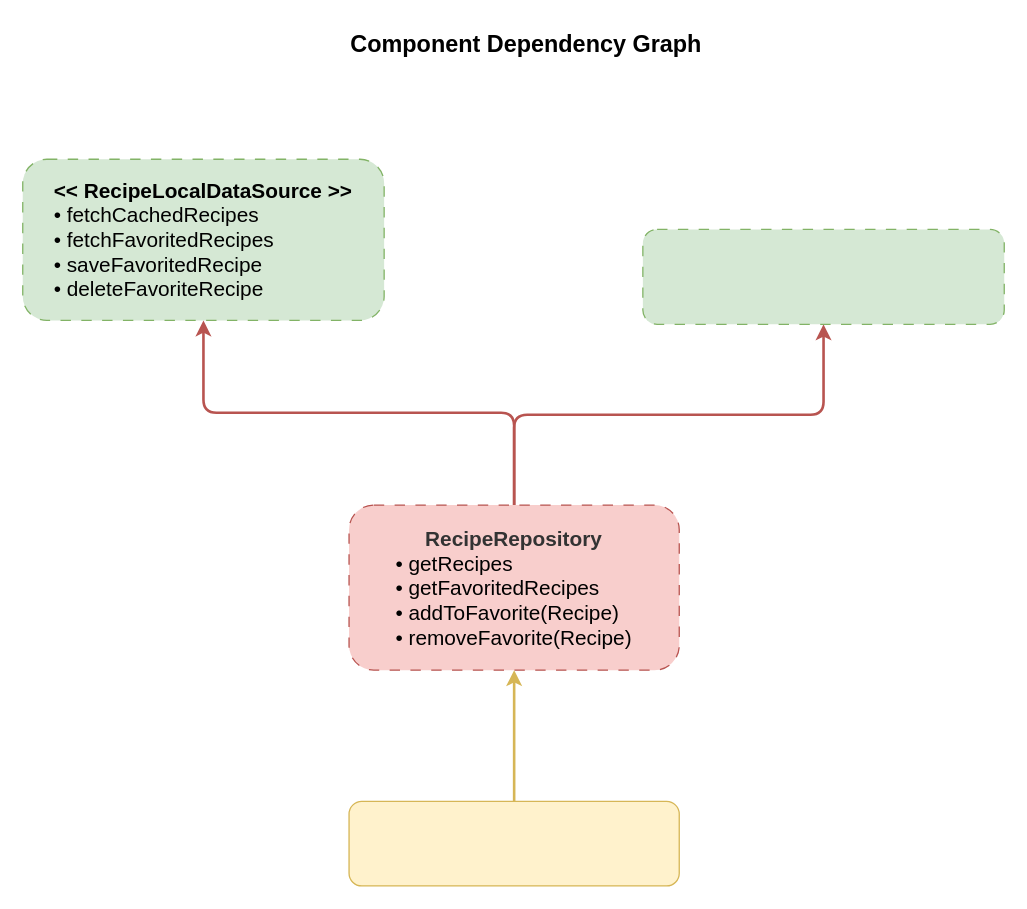
Some shapes in this 1027 by 909 pixel diagram are drawn without their labels. Each missing label, with the box of its shape:
<< RecipeRemoteDataSource >> • fetchRecipes: (642, 228, 1004, 324)
RecipesViewModel: (348, 800, 679, 886)
